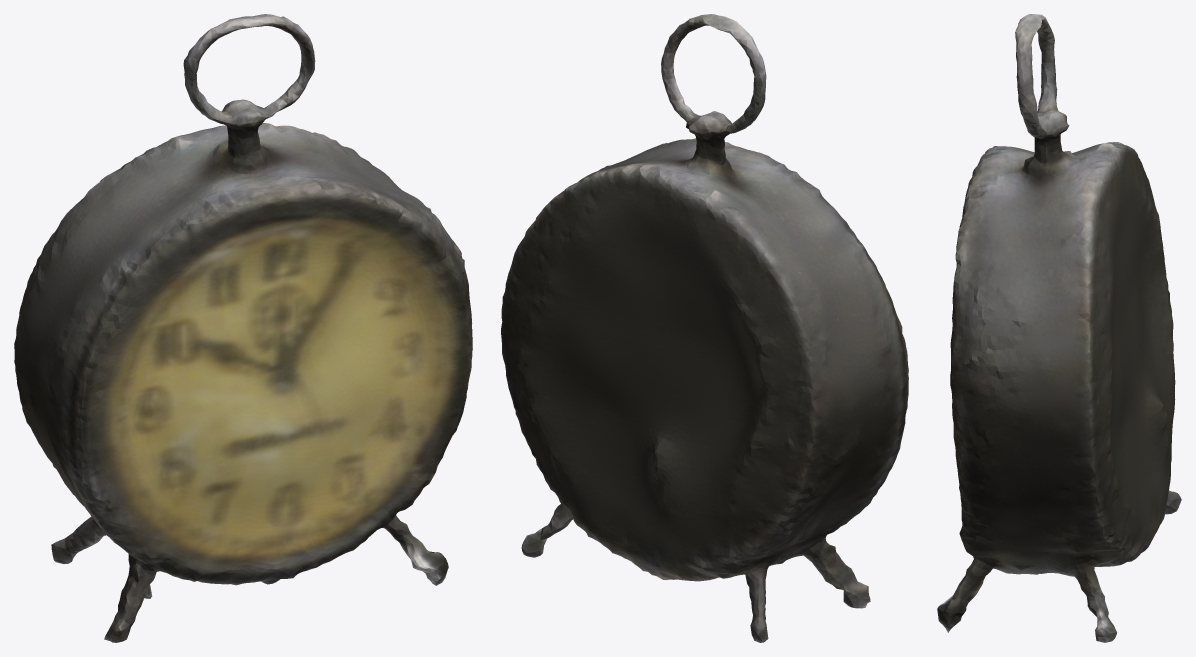
The model's file is clock.glb.
The picture shows the model from 3 angles, left to right: view 1: azimuth 30°, elevation 25°; view 2: azimuth 150°, elevation 25°; view 3: azimuth 270°, elevation 25°; orthographic projection. The views are drawn at different scales.
Bounding box in the file's own units: 0.7113 × 1.02 × 0.4064.
1 material, 1 textured.
